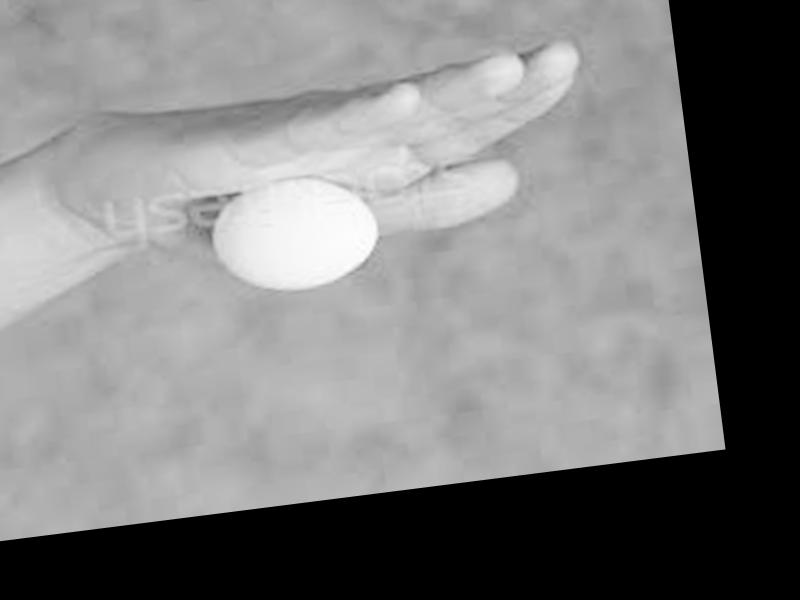Eggs: (206, 169, 383, 302)
